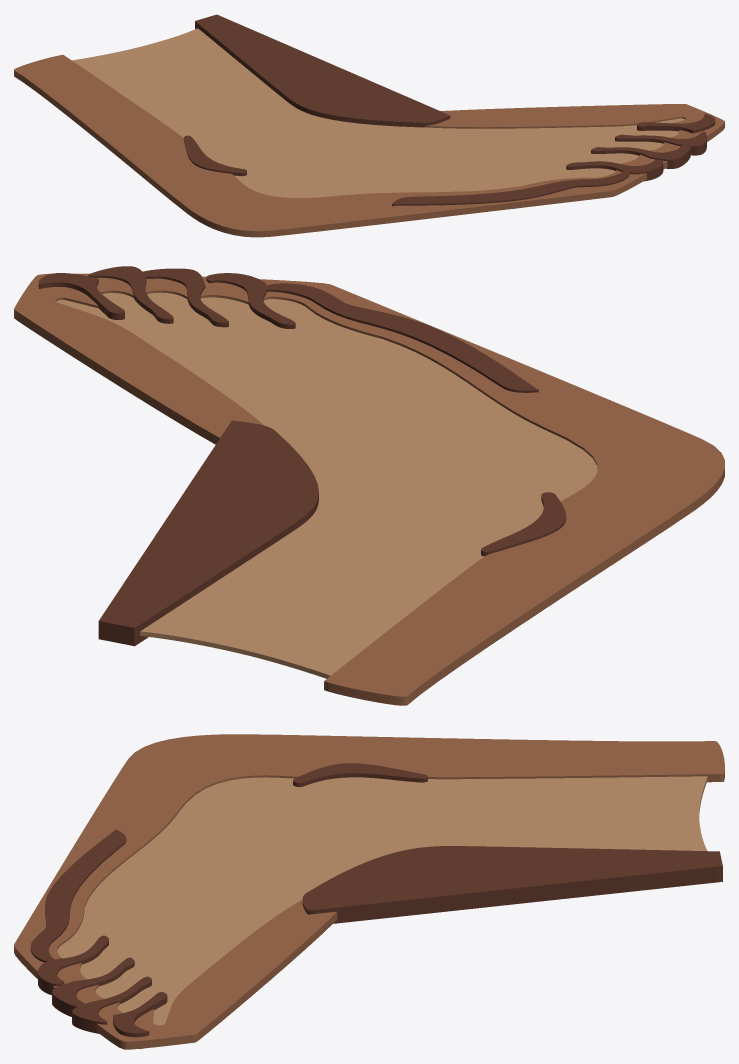
The model's file is emoji_u1f9b6_1f3fd.glb.
The picture shows the model from 3 angles, top to bottom: view 1: azimuth 30°, elevation 25°; view 2: azimuth 150°, elevation 25°; view 3: azimuth 270°, elevation 25°; orthographic projection. The views are drawn at different scales.
Parts seen in each view (by area): view 1: emoji_u1f9b6_1f3fd; view 2: emoji_u1f9b6_1f3fd; view 3: emoji_u1f9b6_1f3fd.
Boxes of the visible parts, x1,y1,x2,y2 form: emoji_u1f9b6_1f3fd: (14,14,724,237); emoji_u1f9b6_1f3fd: (14,266,724,705); emoji_u1f9b6_1f3fd: (14,734,724,1049).
Bounding box in the file's own units: 0.0333 × 0.0008 × 0.0325.
